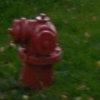Hydrant: (6, 9, 80, 89)
